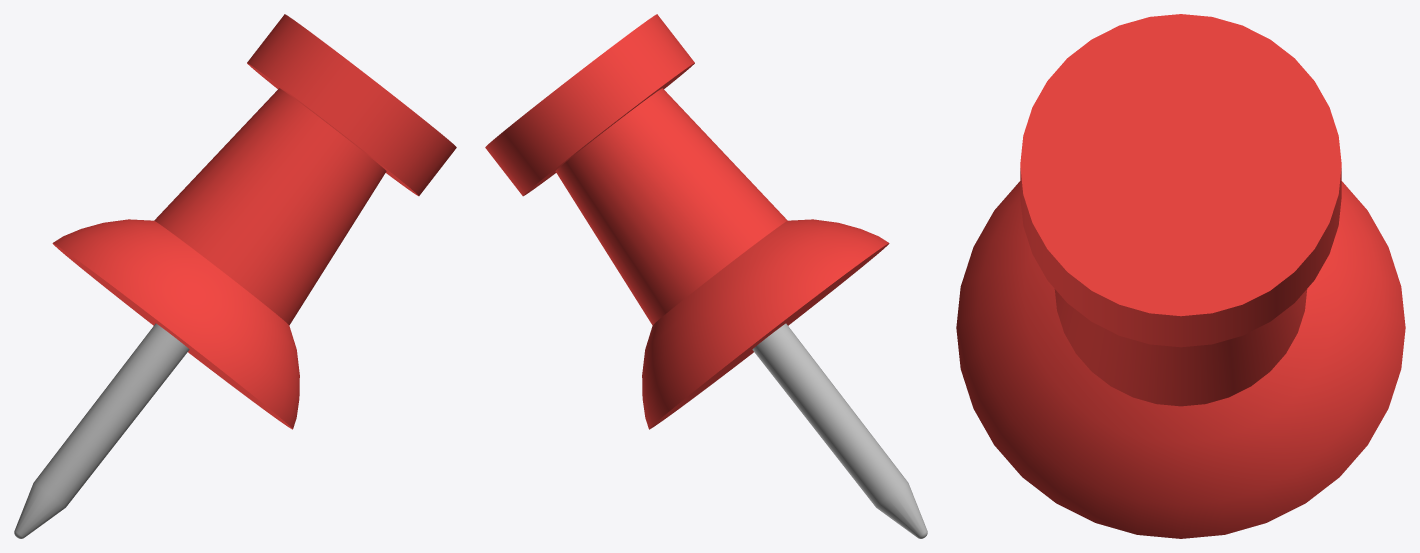
The model's file is pushpin.glb.
3 renders of one model, left to right at view 1: azimuth 30°, elevation 25°; view 2: azimuth 150°, elevation 25°; view 3: azimuth 270°, elevation 25°, orthographic. The views are drawn at different scales.
Parts seen in each view (by area): view 1: Circle.2569; view 2: Circle.2569; view 3: Circle.2569.
Boxes of the visible parts, x1,y1,x2,y2 form: Circle.2569: (14,14,456,538); Circle.2569: (485,14,927,538); Circle.2569: (956,14,1405,538).
Size of the model in its own units: 2.15 by 2.15 by 1.35.
Materials: 1 (1 with a texture image).
